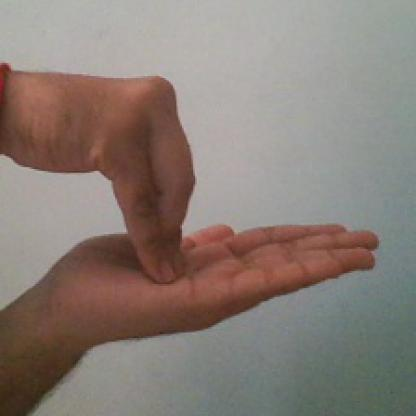Z: (7, 73, 392, 321)
